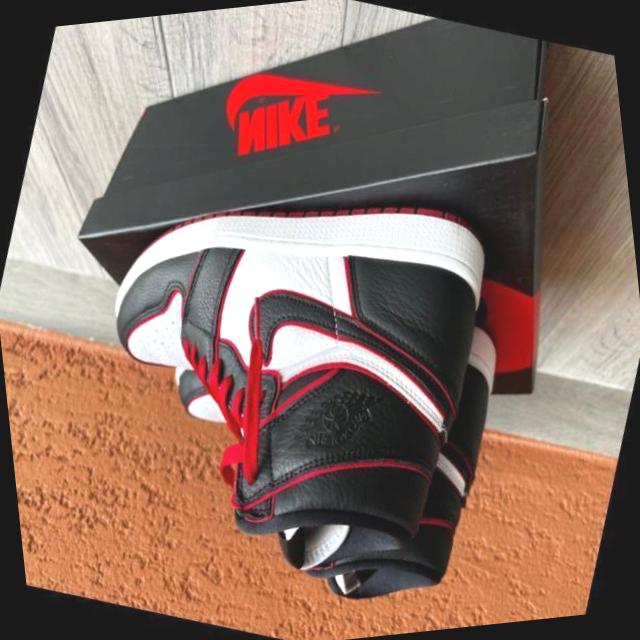nike_original_jordan: (29, 108, 542, 632)
